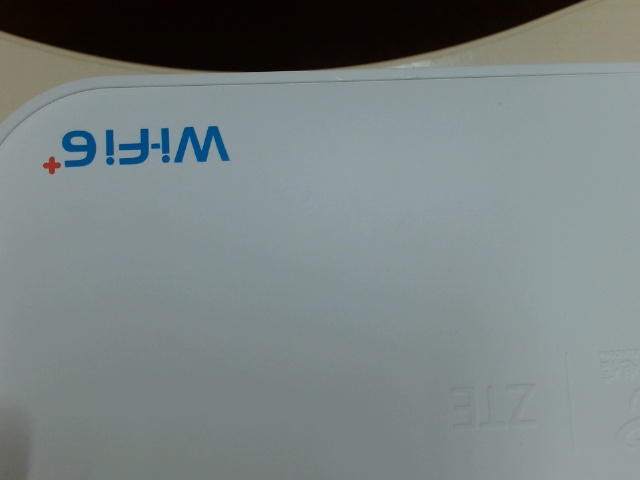AJ_ZTEWIFI6Plus: (33, 116, 247, 183)
